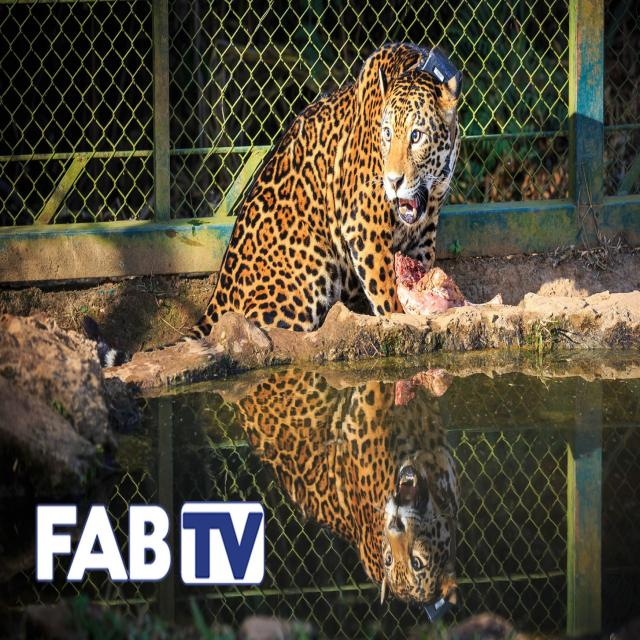Jaguar: (210, 42, 443, 313)
